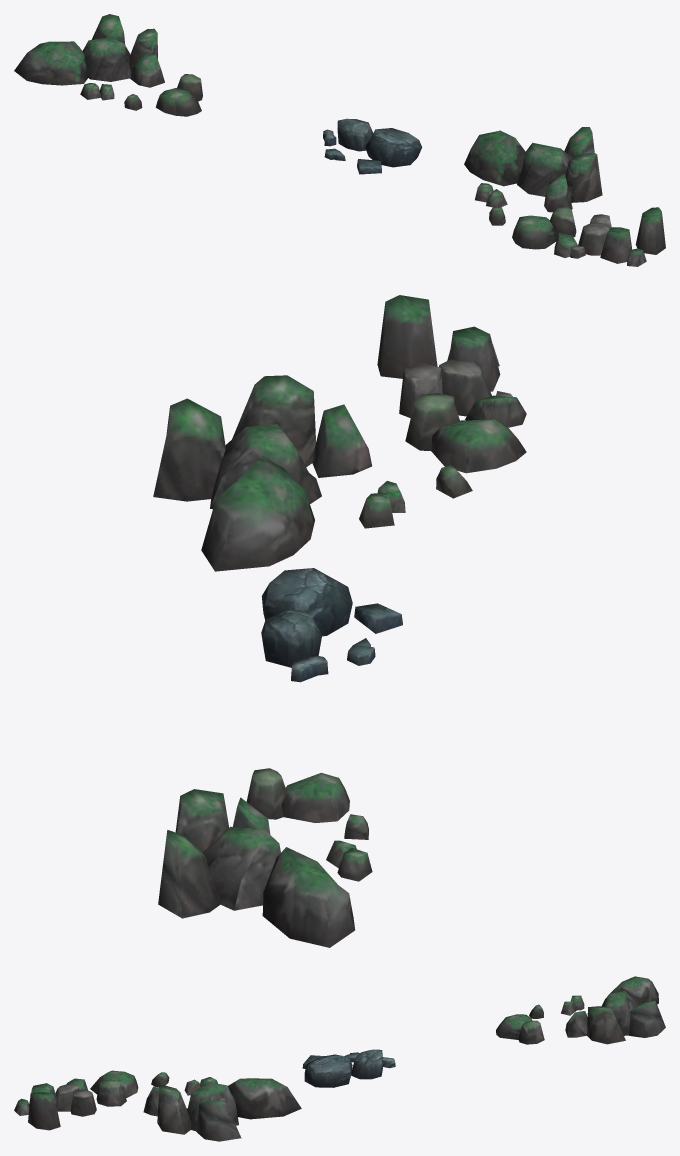
File: Area_12_30.fbx
3 renders of one model, top to bottom at view 1: azimuth 30°, elevation 25°; view 2: azimuth 150°, elevation 25°; view 3: azimuth 270°, elevation 25°, orthographic. The views are drawn at different scales.
Parts seen in each view (by area): view 1: Area_12_30; view 2: Area_12_30; view 3: Area_12_30.
Part boxes in pixels (bbox=[...]): Area_12_30: bbox=[14, 14, 665, 266]; Area_12_30: bbox=[153, 295, 526, 947]; Area_12_30: bbox=[14, 976, 665, 1141].
Bounding box in the file's own units: 2237 × 264 × 4149.
